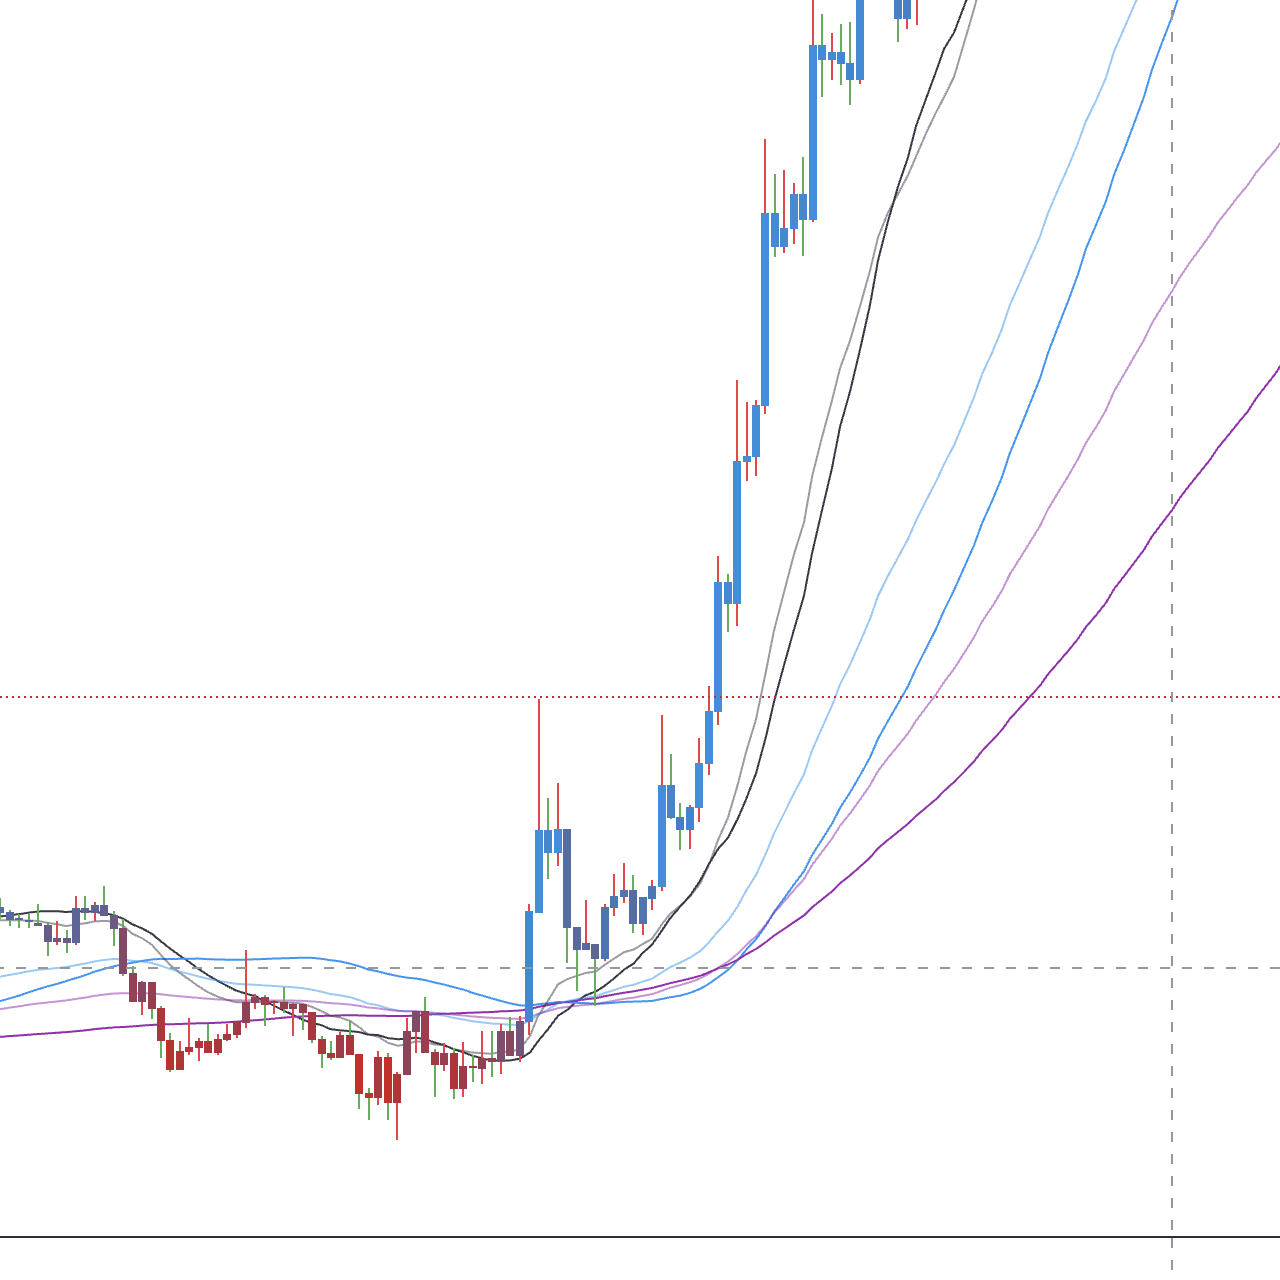ma_cluster: (433, 775, 696, 1073)
